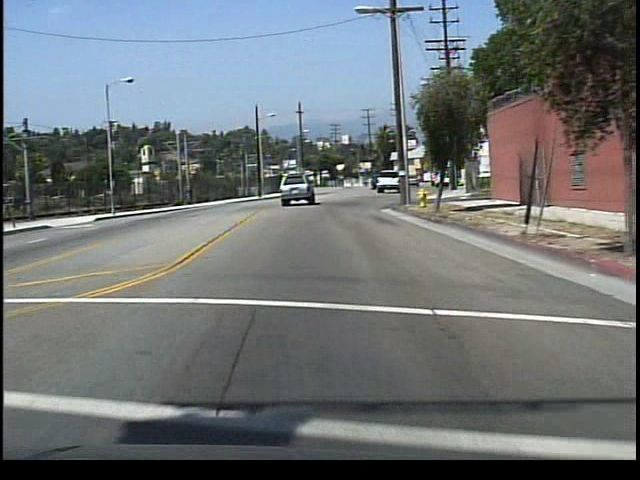person: (183, 182, 199, 208)
